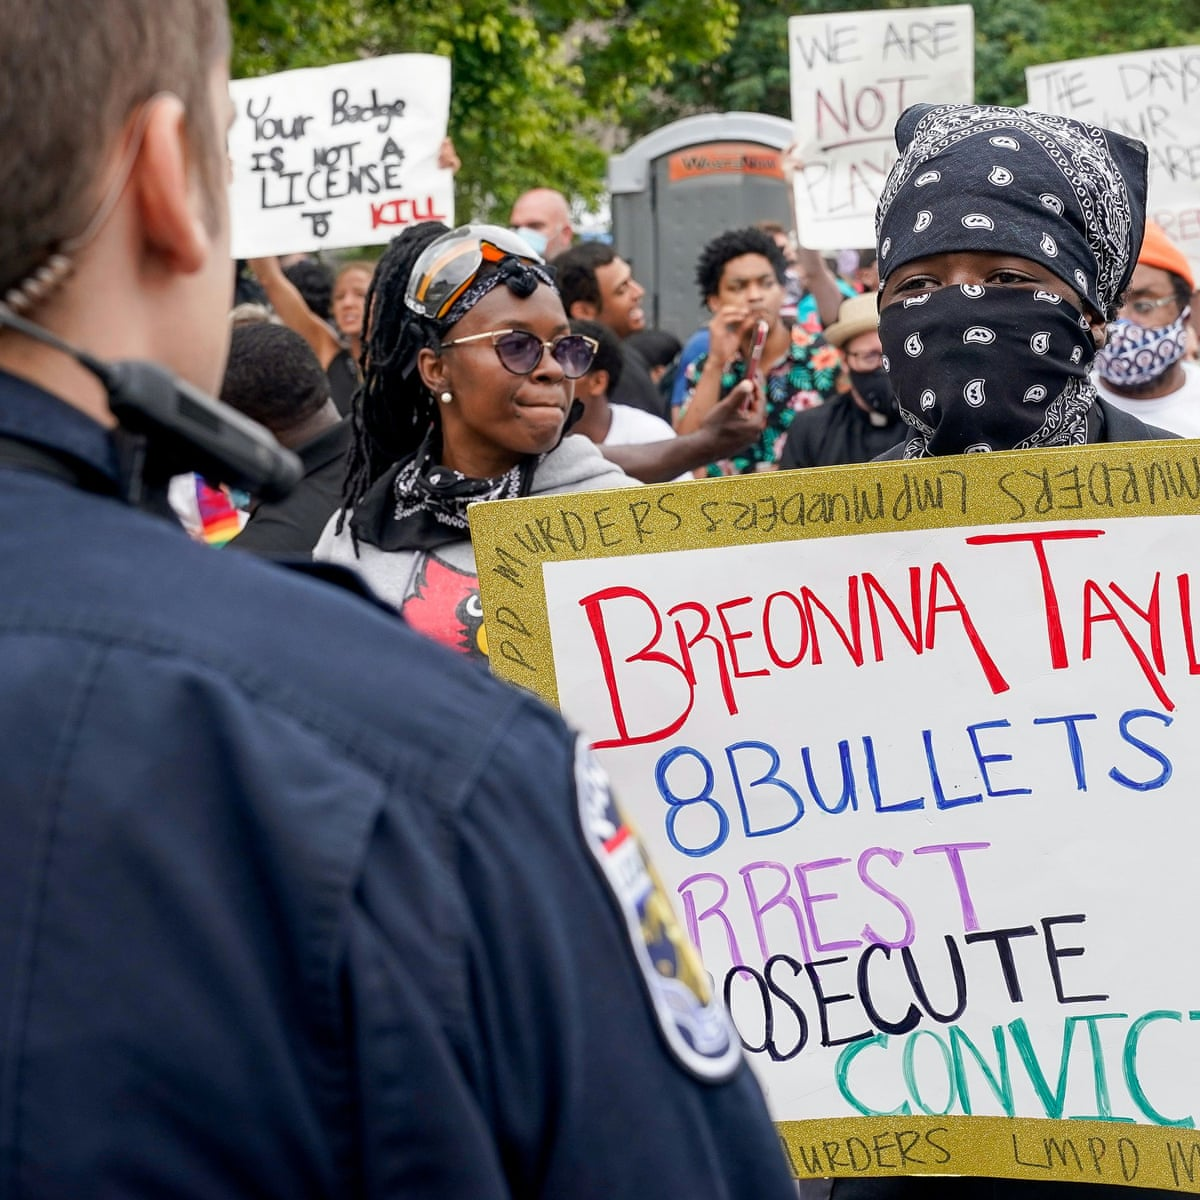mouth: (515, 395, 568, 416)
nose: (529, 363, 564, 384), (744, 293, 763, 303), (632, 287, 644, 300)
